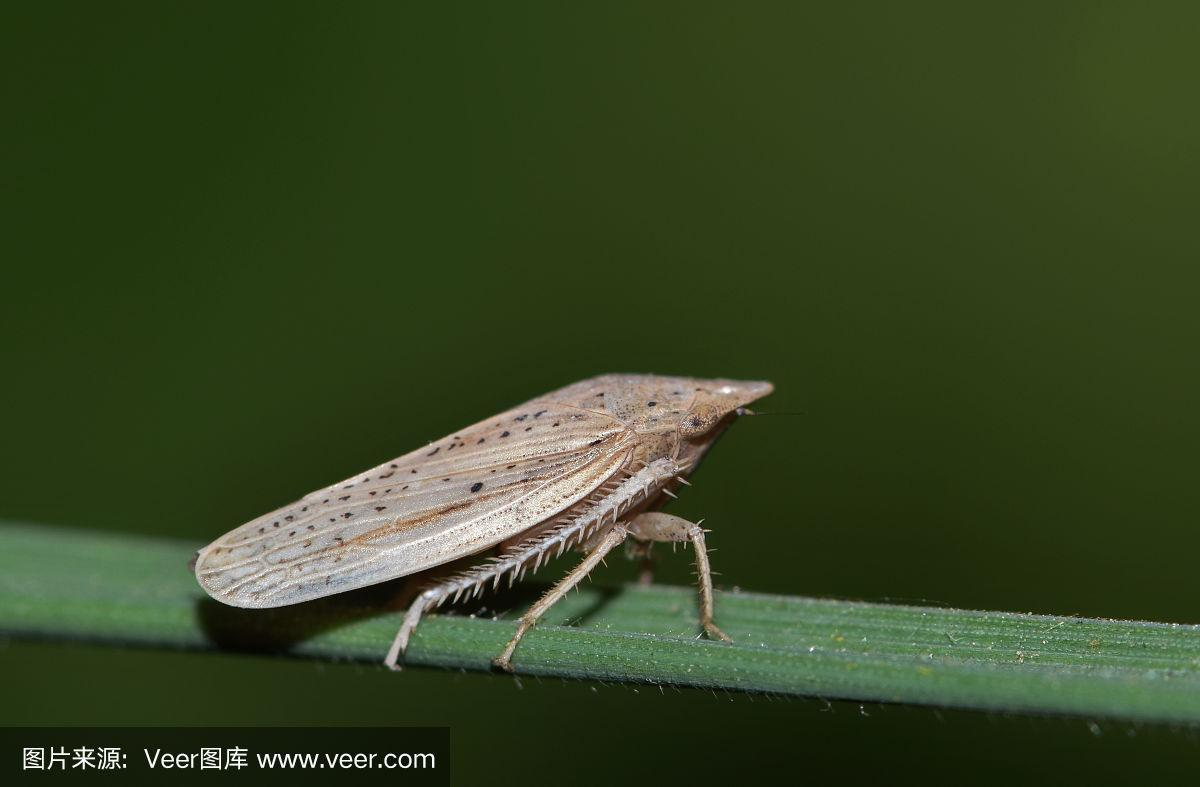Cicadellidae: (193, 366, 778, 677)
